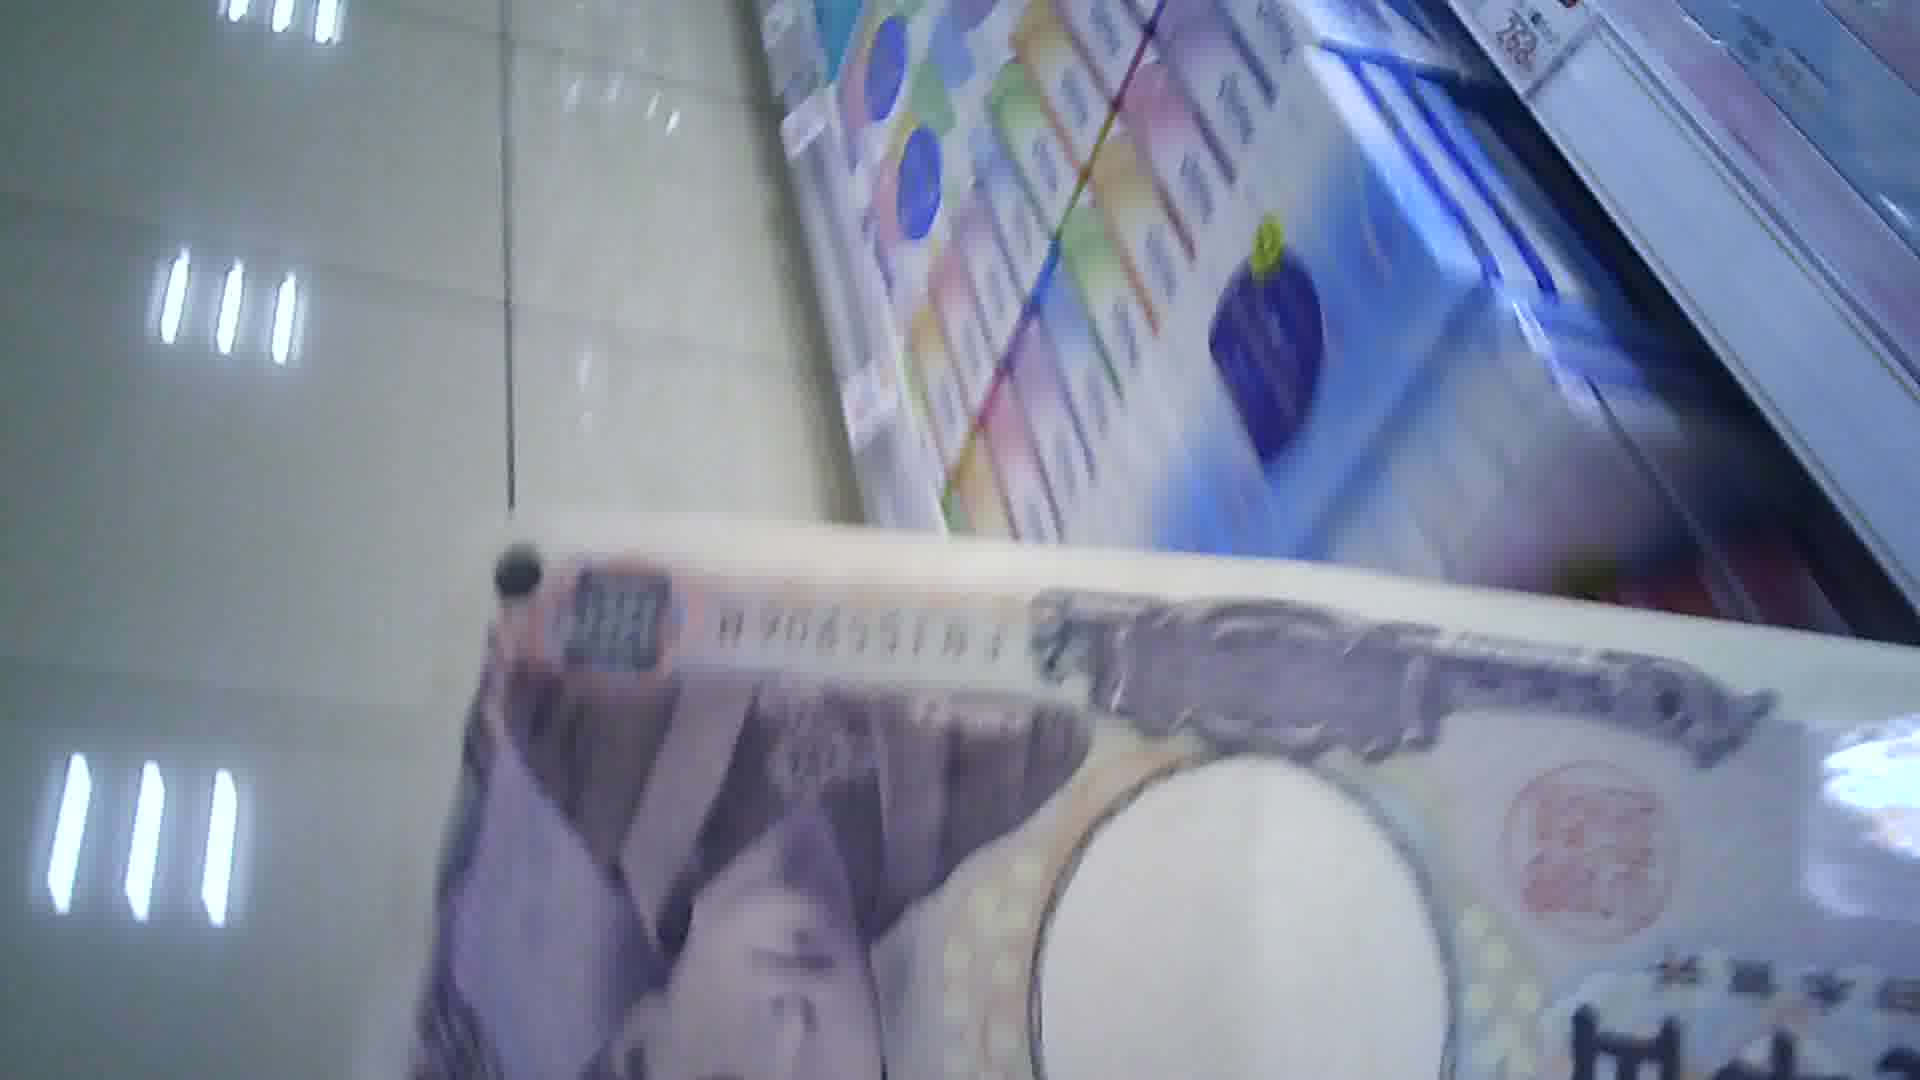5,000 Yen: (460, 495, 1911, 1079)
